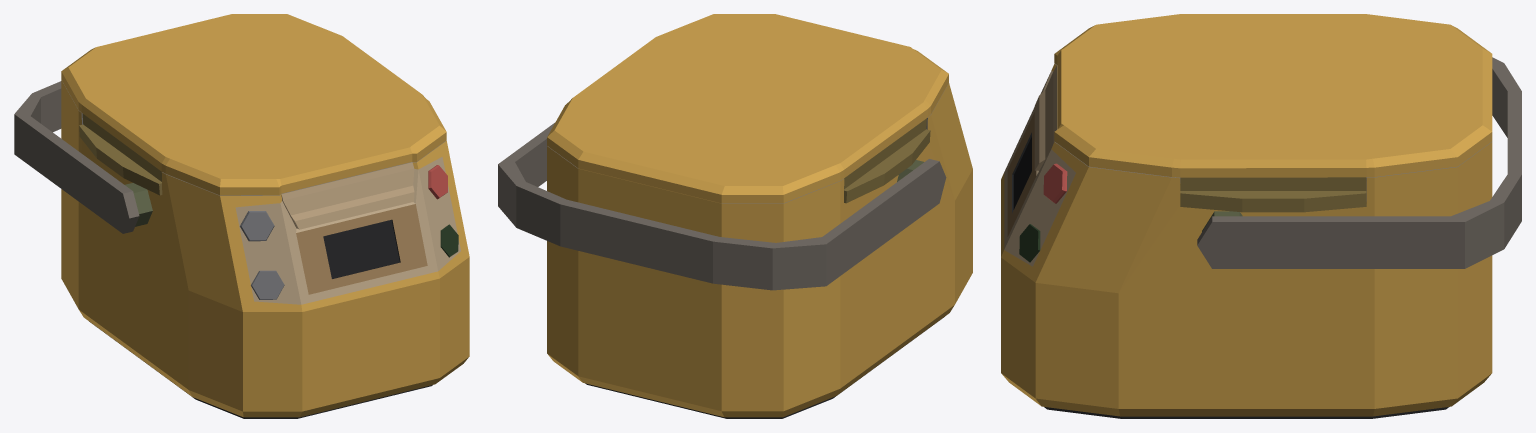
The model's file is ricecooker_01_D.gltf.
3 renders of one model, left to right at view 1: azimuth 30°, elevation 25°; view 2: azimuth 150°, elevation 25°; view 3: azimuth 270°, elevation 25°, orthographic. The views are drawn at different scales.
Parts seen in each view (by area): view 1: ricecooker_01_D, Capforricecooker_01_D, carryhandle_01_D, openingmechanism_01_D, Pen_01_D, buttontop_01_D, buttonbot_01_D, buttonSTOP_01_D, buttonSTART_01_D; view 2: ricecooker_01_D, Capforricecooker_01_D, carryhandle_01_D, Pen_01_D; view 3: ricecooker_01_D, Capforricecooker_01_D, carryhandle_01_D, Pen_01_D, openingmechanism_01_D, buttonSTOP_01_D, buttonSTART_01_D.
Part boxes in pixels (bbox=[...]): ricecooker_01_D: bbox=[61, 80, 469, 418]; Capforricecooker_01_D: bbox=[61, 14, 446, 195]; carryhandle_01_D: bbox=[14, 81, 152, 233]; openingmechanism_01_D: bbox=[281, 162, 414, 229]; Pen_01_D: bbox=[79, 114, 162, 195]; buttontop_01_D: bbox=[240, 211, 274, 241]; buttonbot_01_D: bbox=[251, 270, 284, 299]; buttonSTOP_01_D: bbox=[428, 165, 447, 199]; buttonSTART_01_D: bbox=[440, 224, 458, 257]; ricecooker_01_D: bbox=[547, 83, 972, 418]; Capforricecooker_01_D: bbox=[547, 14, 948, 203]; carryhandle_01_D: bbox=[498, 122, 946, 290]; Pen_01_D: bbox=[844, 118, 930, 203]; ricecooker_01_D: bbox=[1001, 63, 1492, 418]; Capforricecooker_01_D: bbox=[1054, 14, 1492, 177]; carryhandle_01_D: bbox=[1197, 57, 1521, 268]; Pen_01_D: bbox=[1180, 177, 1366, 212]; openingmechanism_01_D: bbox=[1034, 66, 1057, 170]; buttonSTOP_01_D: bbox=[1043, 163, 1067, 203]; buttonSTART_01_D: bbox=[1019, 224, 1040, 262].
Size of the model in its own units: 0.3587 by 0.2454 by 0.442.
1 material, 1 textured.
